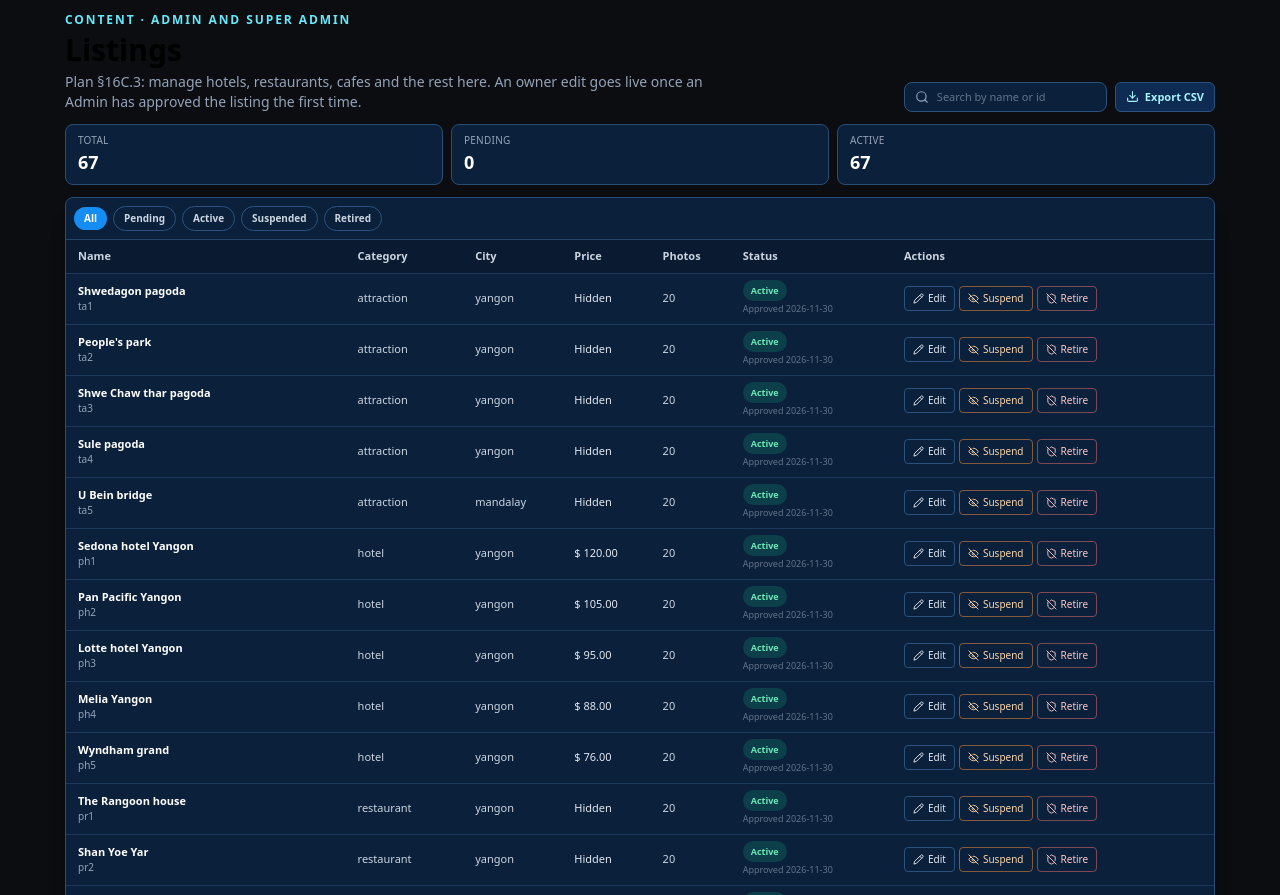
Test: ListingsPanel › narrows the list with the search box
The image size is (1280, 895).
In the field labelled "Search by name or id": (1016, 97) [937,88,1096,105], type "zzzznomatchzzzz"
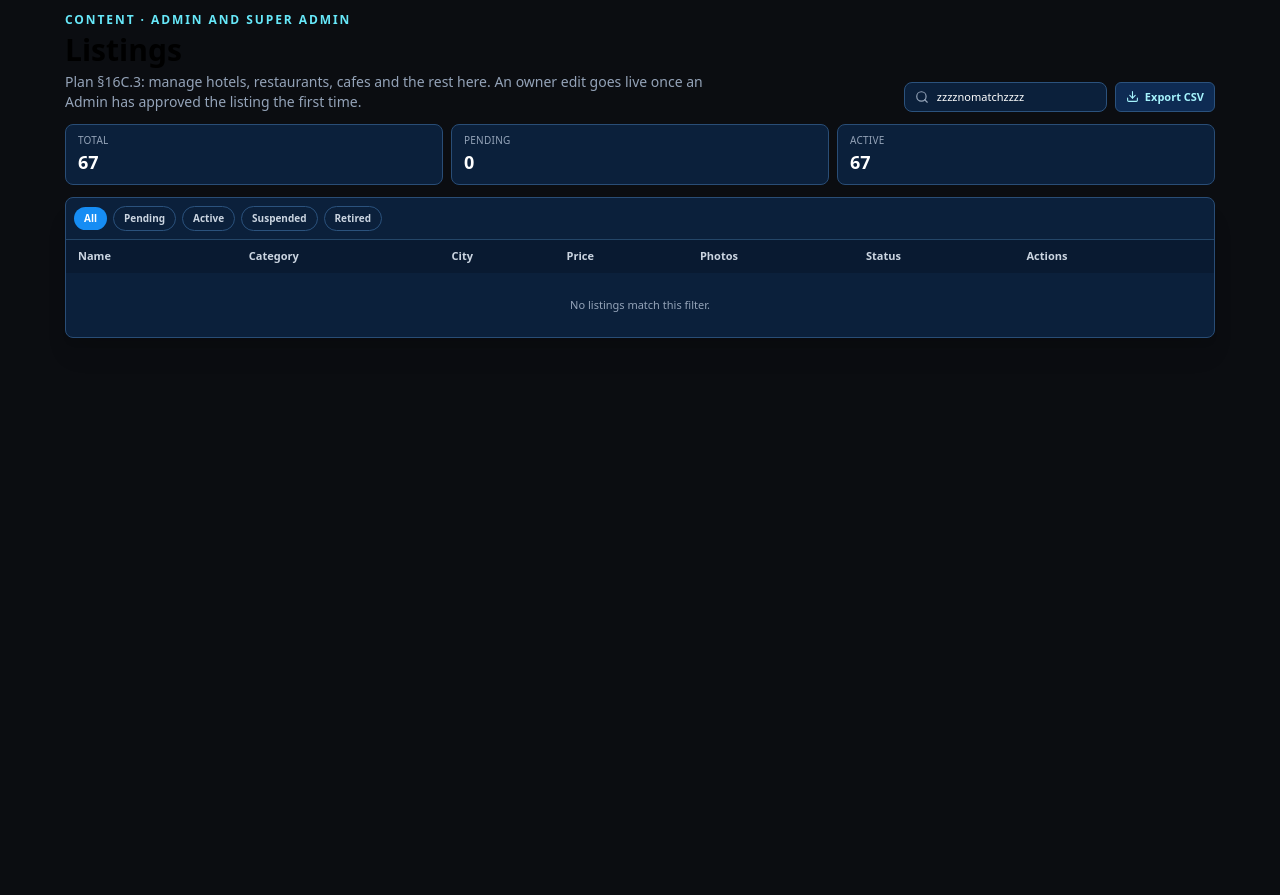
Expected: the text "No listings match this filter." is shown, [66,272,1214,337]
